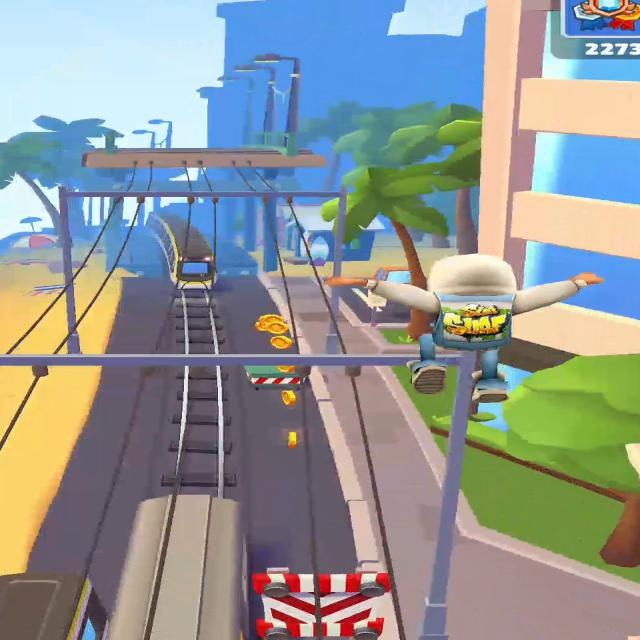blocker: (245, 365, 306, 391)
jump-barrier: (253, 571, 389, 640)
roll blocker: (119, 226, 167, 279), (217, 241, 257, 278)
train: (163, 230, 216, 289)
